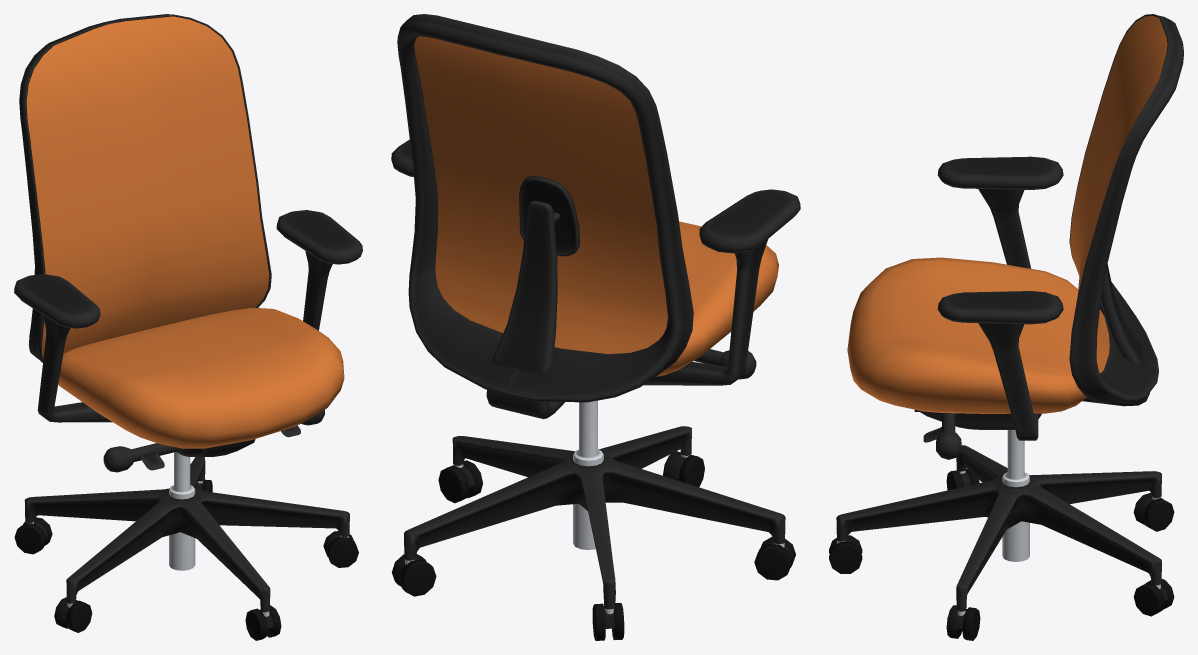
File: DeskChair.fbx
3 renders of one model, left to right at view 1: azimuth 30°, elevation 25°; view 2: azimuth 150°, elevation 25°; view 3: azimuth 270°, elevation 25°, orthographic. The views are drawn at different scales.
Visible parts, largest first — view 1: DeskChair; view 2: DeskChair; view 3: DeskChair.
Part boxes in pixels (x1,y1,x2,y2): DeskChair: (14,14,362,640); DeskChair: (391,14,800,640); DeskChair: (829,14,1183,640).
Bounding box in the file's own units: 67.03 × 103 × 63.13.
